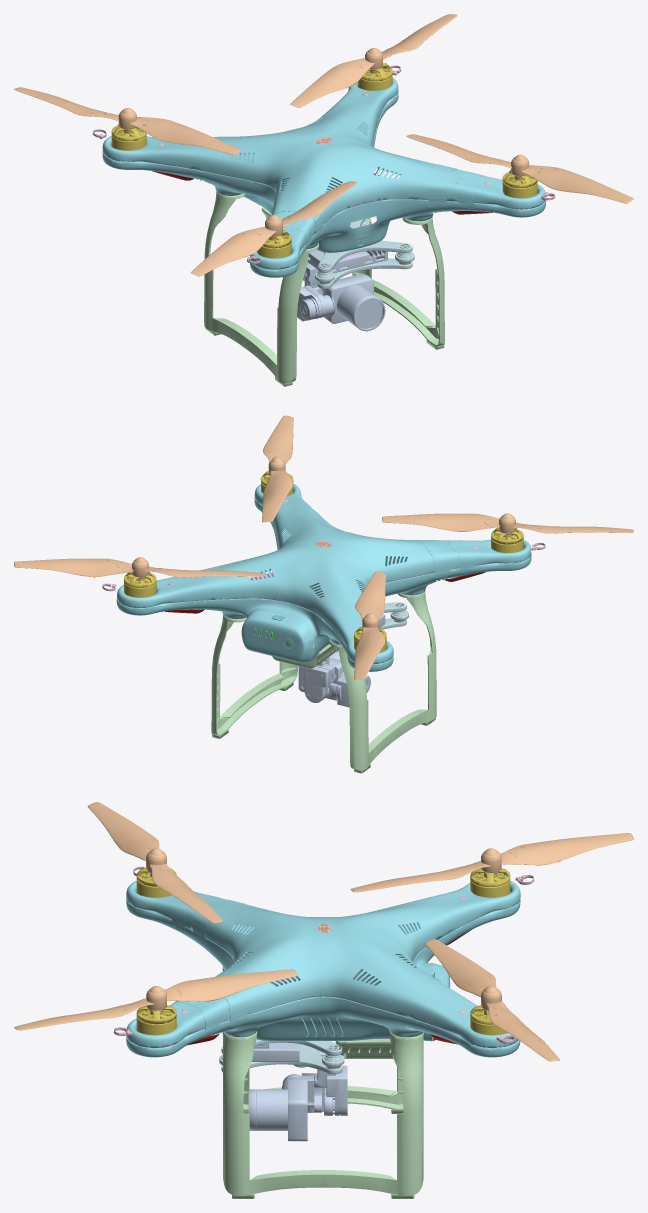
Rendered from airplane.glb.
3 views of the same model, one above another, from view 1: azimuth 30°, elevation 25°; view 2: azimuth 150°, elevation 25°; view 3: azimuth 270°, elevation 25° (orthographic). The views are drawn at different scales.
Visible parts, largest first — view 1: Obj3d66_788079_26_755, Obj3d66_788079_30_828, Obj3d66_788079_19_661, Obj3d66_788079_10_405, Obj3d66_788079_6_140, Obj3d66_788079_8_809, Obj3d66_788079_24_474, Obj3d66_788079_31_442, Obj3d66_788079_13_576, Obj3d66_788079_28_886, Obj3d66_788079_29_633, Obj3d66_788079_38_245 (+3 smaller); view 2: Obj3d66_788079_26_755, Obj3d66_788079_30_828, Obj3d66_788079_8_809, Obj3d66_788079_24_474, Obj3d66_788079_6_140, Obj3d66_788079_10_405, Obj3d66_788079_19_661, Obj3d66_788079_29_633, Obj3d66_788079_35_538, Obj3d66_788079_37_418, Obj3d66_788079_31_442; view 3: Obj3d66_788079_26_755, Obj3d66_788079_30_828, Obj3d66_788079_19_661, Obj3d66_788079_10_405, Obj3d66_788079_6_140, Obj3d66_788079_8_809, Obj3d66_788079_24_474, Obj3d66_788079_31_442, Obj3d66_788079_13_576, Obj3d66_788079_29_633, Obj3d66_788079_36_115, Obj3d66_788079_38_245 (+4 smaller).
Part boxes in pixels (x1=…): Obj3d66_788079_26_755: x1=102, y1=78, x2=546, y2=277; Obj3d66_788079_30_828: x1=204, y1=191, x2=444, y2=386; Obj3d66_788079_19_661: x1=297, y1=262, x2=385, y2=331; Obj3d66_788079_10_405: x1=406, y1=134, x2=633, y2=203; Obj3d66_788079_6_140: x1=14, y1=87, x2=241, y2=155; Obj3d66_788079_8_809: x1=290, y1=14, x2=457, y2=107; Obj3d66_788079_24_474: x1=191, y1=181, x2=357, y2=276; Obj3d66_788079_31_442: x1=315, y1=218, x2=414, y2=288; Obj3d66_788079_13_576: x1=428, y1=164, x2=484, y2=208; Obj3d66_788079_28_886: x1=308, y1=250, x2=387, y2=272; Obj3d66_788079_29_633: x1=271, y1=201, x2=323, y2=248; Obj3d66_788079_38_245: x1=502, y1=170, x2=537, y2=198; Obj3d66_788079_26_755: x1=116, y1=483, x2=531, y2=671; Obj3d66_788079_30_828: x1=211, y1=591, x2=436, y2=773; Obj3d66_788079_8_809: x1=14, y1=558, x2=265, y2=578; Obj3d66_788079_24_474: x1=382, y1=513, x2=633, y2=534; Obj3d66_788079_6_140: x1=354, y1=571, x2=385, y2=679; Obj3d66_788079_10_405: x1=262, y1=415, x2=293, y2=522; Obj3d66_788079_19_661: x1=298, y1=651, x2=370, y2=707; Obj3d66_788079_29_633: x1=421, y1=540, x2=475, y2=579; Obj3d66_788079_35_538: x1=124, y1=571, x2=156, y2=597; Obj3d66_788079_37_418: x1=491, y1=527, x2=523, y2=552; Obj3d66_788079_31_442: x1=280, y1=602, x2=408, y2=651; Obj3d66_788079_26_755: x1=126, y1=881, x2=520, y2=1057; Obj3d66_788079_30_828: x1=222, y1=968, x2=423, y2=1198; Obj3d66_788079_19_661: x1=248, y1=1050, x2=347, y2=1141; Obj3d66_788079_10_405: x1=14, y1=969, x2=297, y2=1030; Obj3d66_788079_6_140: x1=350, y1=833, x2=633, y2=892; Obj3d66_788079_8_809: x1=424, y1=939, x2=560, y2=1061; Obj3d66_788079_24_474: x1=87, y1=802, x2=223, y2=922; Obj3d66_788079_31_442: x1=219, y1=1022, x2=344, y2=1074; Obj3d66_788079_13_576: x1=174, y1=991, x2=247, y2=1035; Obj3d66_788079_29_633: x1=172, y1=894, x2=244, y2=946; Obj3d66_788079_36_115: x1=470, y1=868, x2=510, y2=897; Obj3d66_788079_38_245: x1=136, y1=1005, x2=176, y2=1035.
Size of the model in its own units: 54.15 by 22.97 by 54.68.
